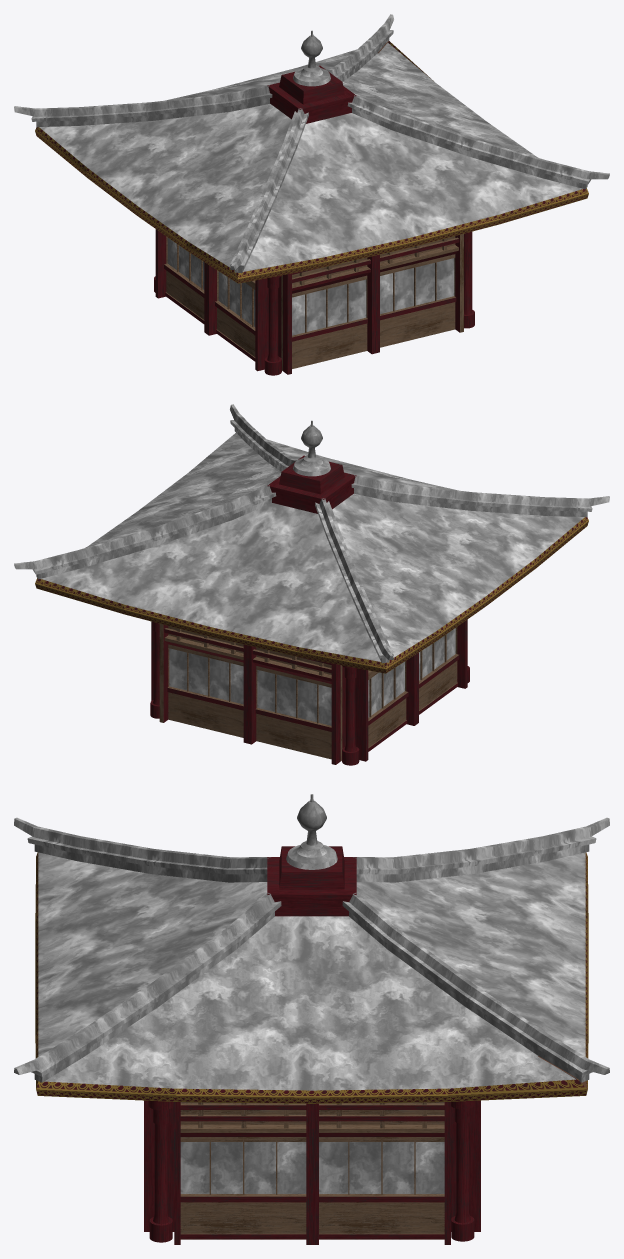
The model's file is SM_house_01.fbx.
3 renders of one model, top to bottom at view 1: azimuth 30°, elevation 25°; view 2: azimuth 150°, elevation 25°; view 3: azimuth 270°, elevation 25°, orthographic. The views are drawn at different scales.
Visible parts, largest first — view 1: SM_house_01; view 2: SM_house_01; view 3: SM_house_01.
Part boxes in pixels (<box>): SM_house_01: <box>14,14,609,375</box>; SM_house_01: <box>14,404,609,765</box>; SM_house_01: <box>14,794,609,1244</box>.
Size of the model in its own units: 1292 by 1292 by 904.
Materials: 6 (6 with a texture image).
